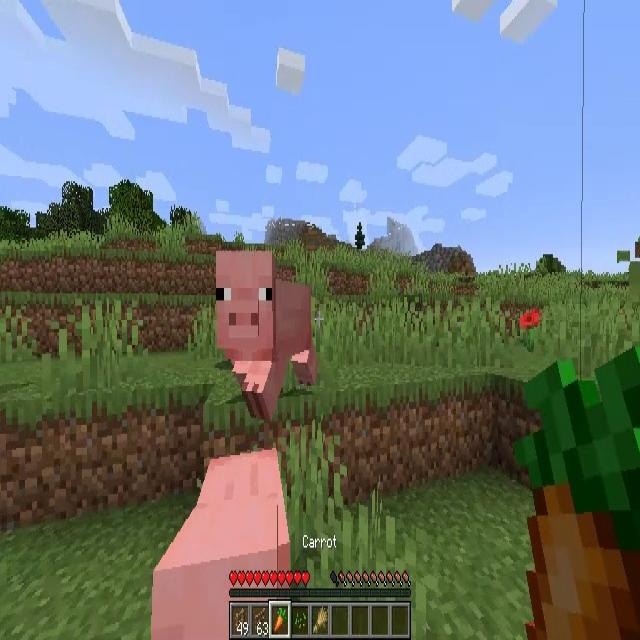pig: (151, 452, 290, 638), (216, 252, 316, 419)
